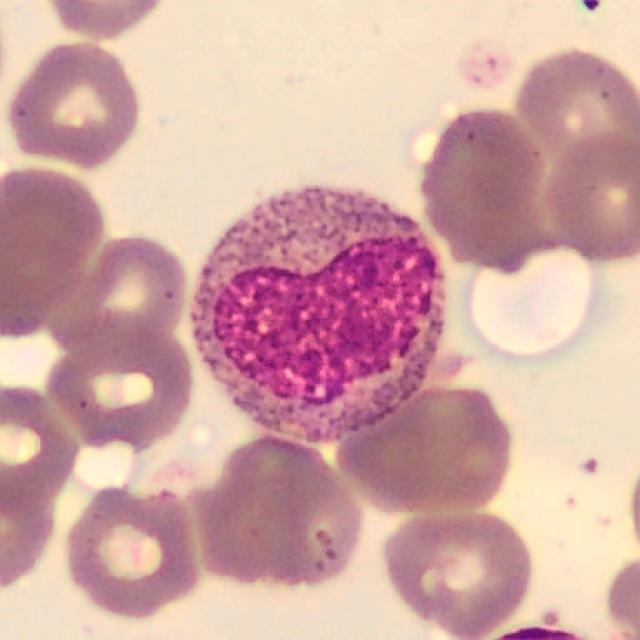Metamielocito: (191, 185, 447, 450)
